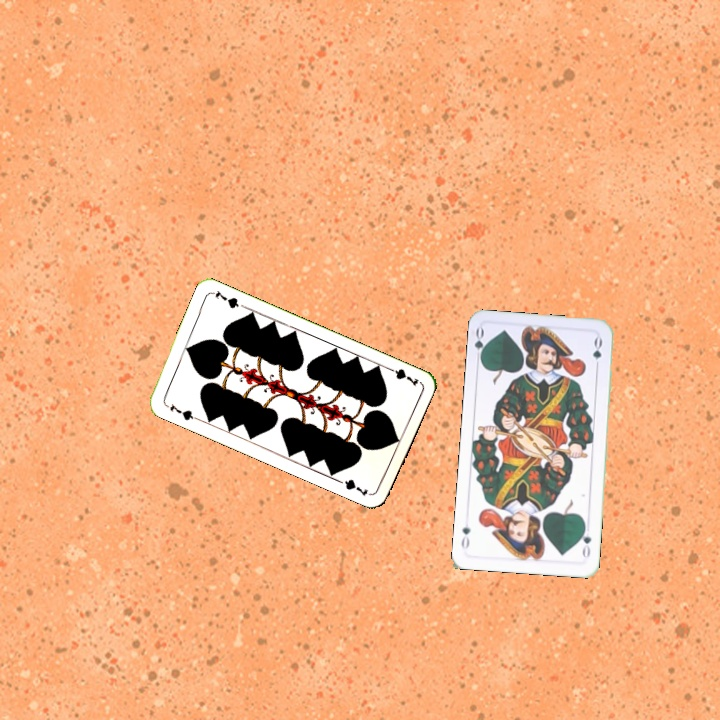G7: (383, 363, 421, 389), (161, 400, 200, 423)
GO: (470, 324, 490, 365), (577, 521, 594, 560)
